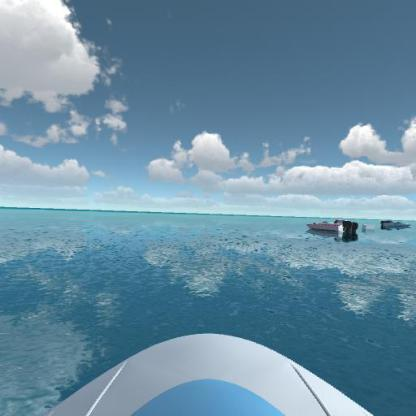usv1: (380, 215, 410, 235)
usv3: (302, 212, 360, 244)
